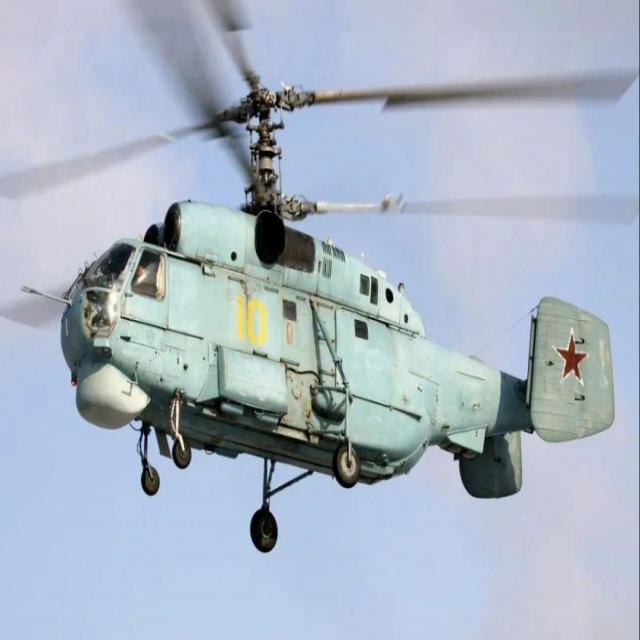MIL_HELO: (10, 0, 640, 555)
